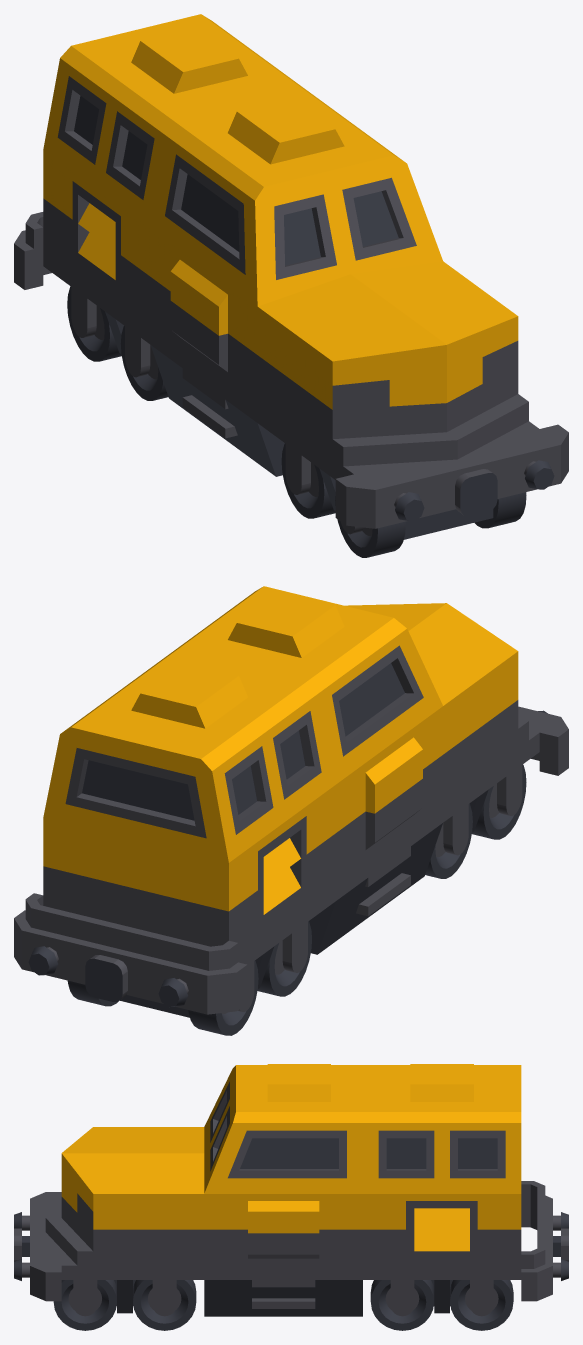
The model's file is DieselTrain.fbx.
3 renders of one model, top to bottom at view 1: azimuth 30°, elevation 25°; view 2: azimuth 150°, elevation 25°; view 3: azimuth 270°, elevation 25°, orthographic. The views are drawn at different scales.
Parts seen in each view (by area): view 1: diesel_front_slant, diesel_cabin_front, diesel_cabin, coupling, bogie (×2), body_detail, body_stripe, fuel_large, wheel_simple (×4), coupling_large; view 2: diesel_cabin, body_stripe, diesel_cabin_front, coupling_large, diesel_front_slant, body_detail, bogie (×2), fuel_large, wheel_simple (×4), coupling; view 3: diesel_cabin, diesel_front_slant, diesel_cabin_front, body_stripe, body_detail, bogie (×2), fuel_large, wheel_simple (×4), coupling_large, coupling.
Boxes of the visible parts, box(x1,y1,x2,y2) form: diesel_front_slant: box(257, 261, 528, 466); diesel_cabin_front: box(150, 92, 442, 306); diesel_cabin: box(43, 14, 316, 227); coupling: box(335, 424, 568, 528); bogie (×2): box(43, 247, 549, 539); body_detail: box(150, 228, 257, 403); body_stripe: box(43, 150, 150, 324); fuel_large: box(150, 325, 284, 476); wheel_simple (×4): box(67, 286, 526, 557); coupling_large: box(14, 212, 51, 289); diesel_cabin: box(43, 649, 335, 862); body_stripe: box(43, 785, 335, 952); diesel_cabin_front: box(169, 586, 442, 784); coupling_large: box(14, 893, 247, 1014); diesel_front_slant: box(345, 603, 528, 802); body_detail: box(336, 706, 443, 881); bogie (×2): box(120, 718, 549, 1017); fuel_large: box(309, 803, 443, 954); wheel_simple (×4): box(67, 764, 526, 1035); coupling: box(518, 706, 568, 775); diesel_cabin: box(363, 1064, 521, 1193); diesel_front_slant: box(45, 1127, 204, 1265); diesel_cabin_front: box(204, 1064, 362, 1193); body_stripe: box(363, 1194, 521, 1265); body_detail: box(204, 1194, 362, 1265); bogie (×2): box(45, 1198, 521, 1316); fuel_large: box(204, 1265, 362, 1316); wheel_simple (×4): box(53, 1280, 513, 1330); coupling_large: box(521, 1181, 568, 1301); coupling: box(14, 1192, 61, 1301).
Size of the model in its own units: 0.12 by 0.16 by 0.35.
